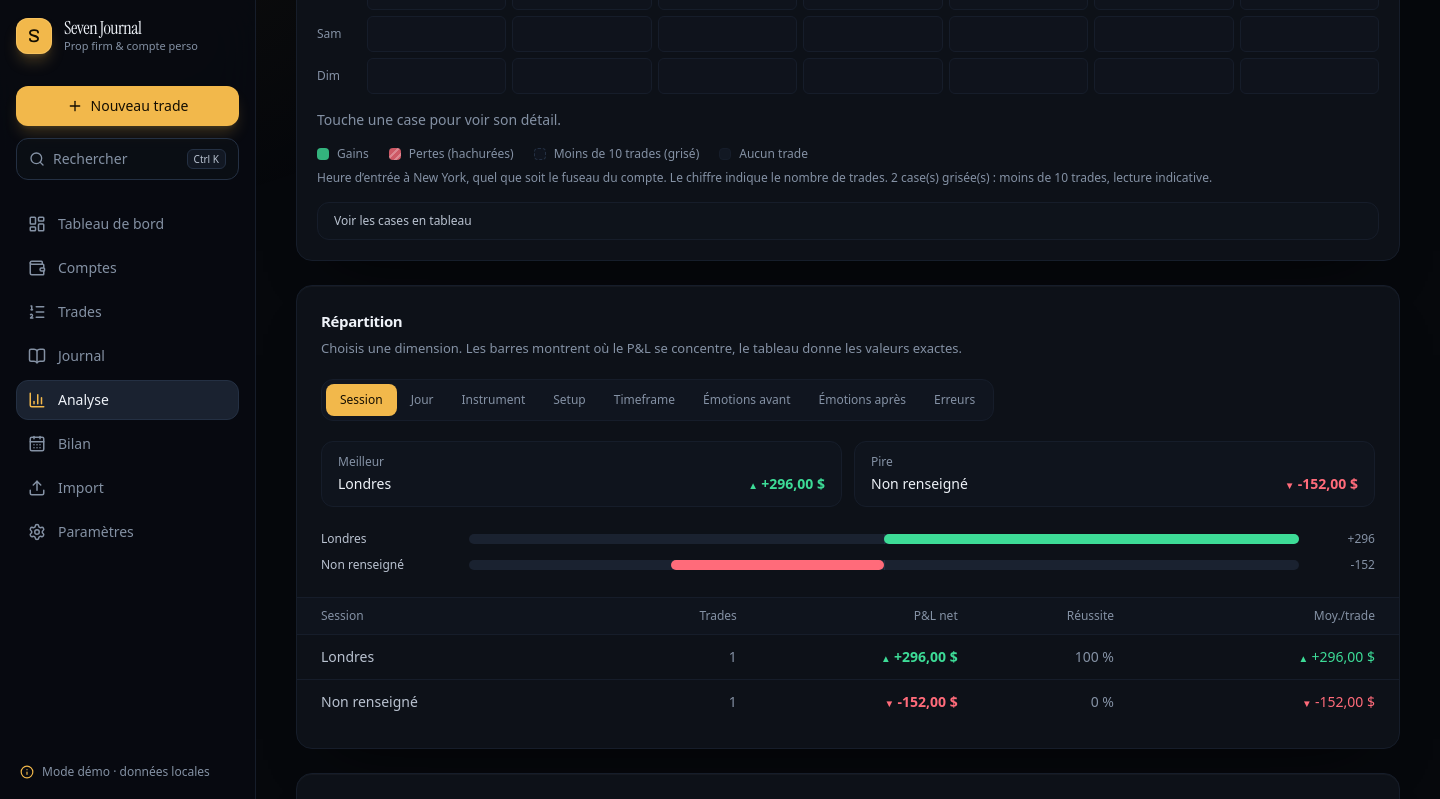
Test: application en mode démo › affiche une répartition à la fois et change de dimension depuis les onglets
(page scrolled)
Click the button "Instrument".
click(493, 400)  # box [448, 384, 539, 416]
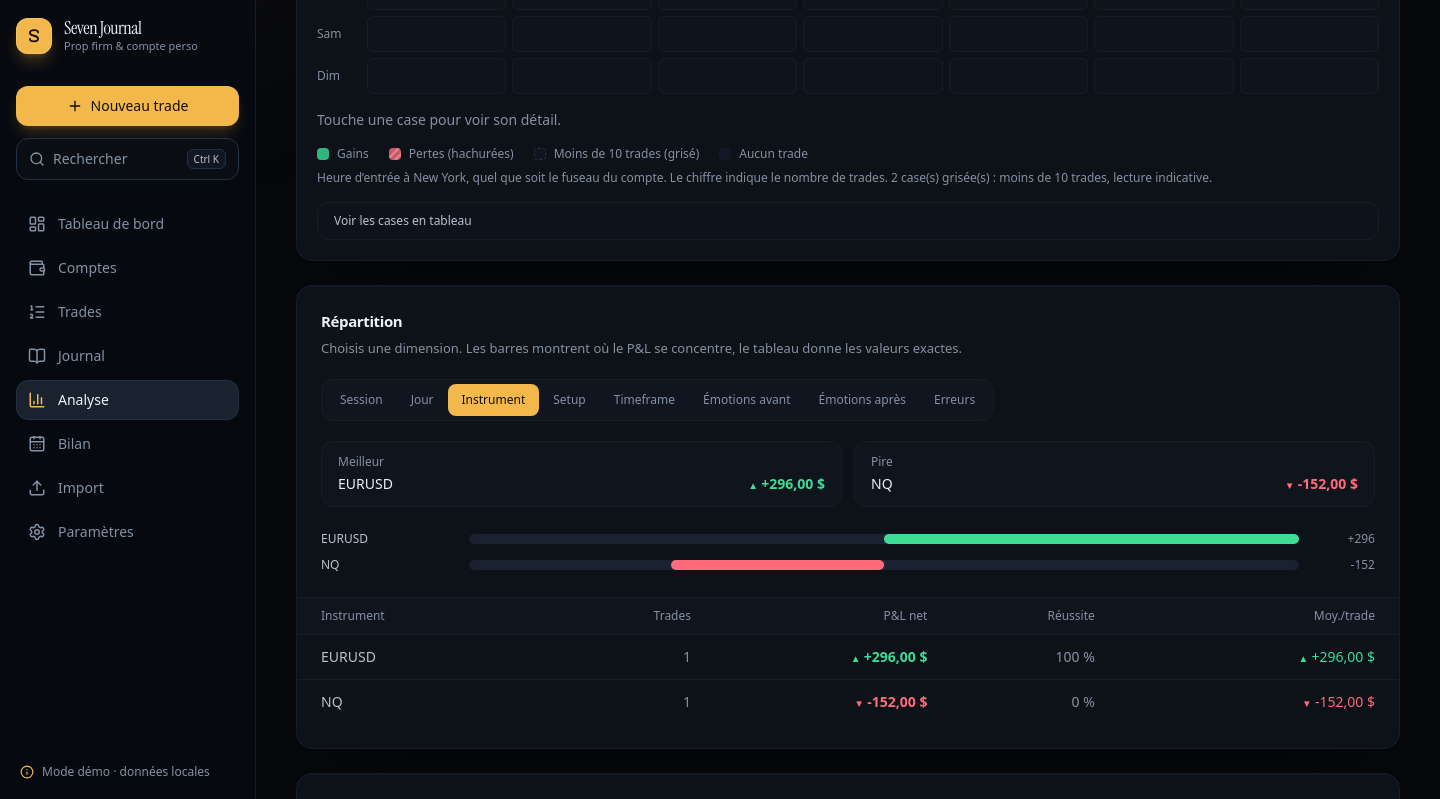
Expected: the text "EURUSD" is shown, [338, 474, 393, 494]
